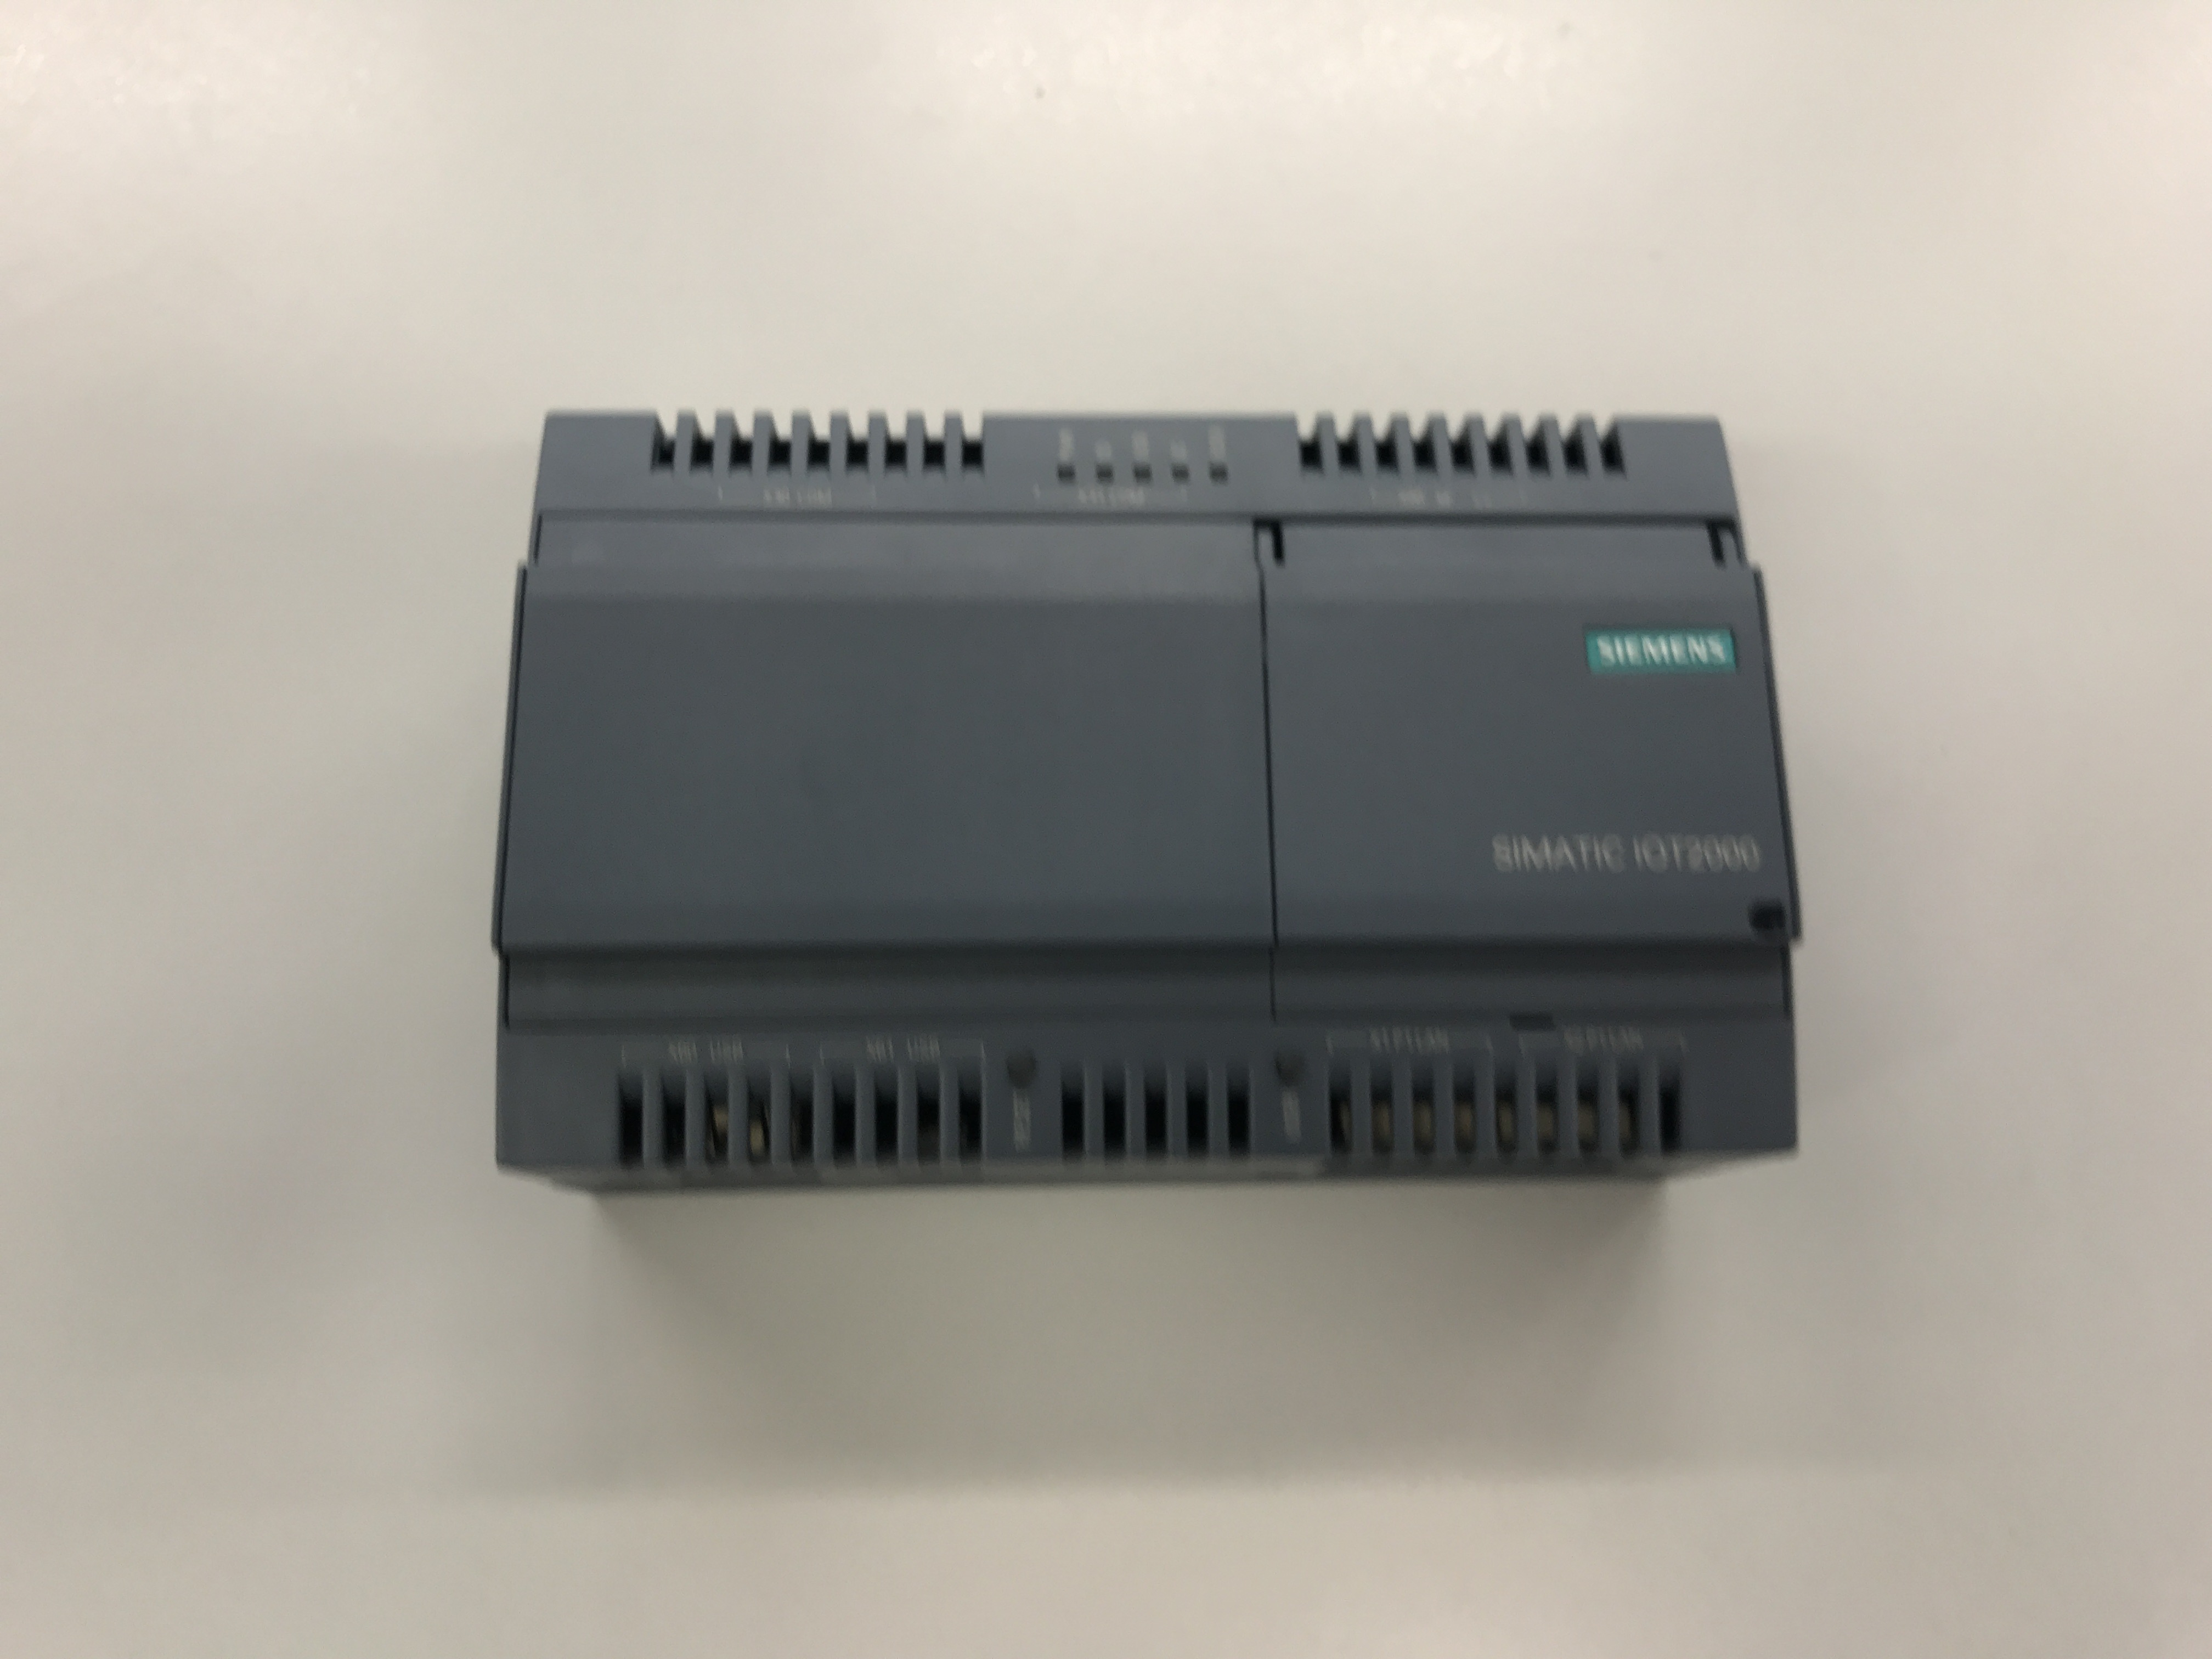device: (488, 408, 1806, 1199)
